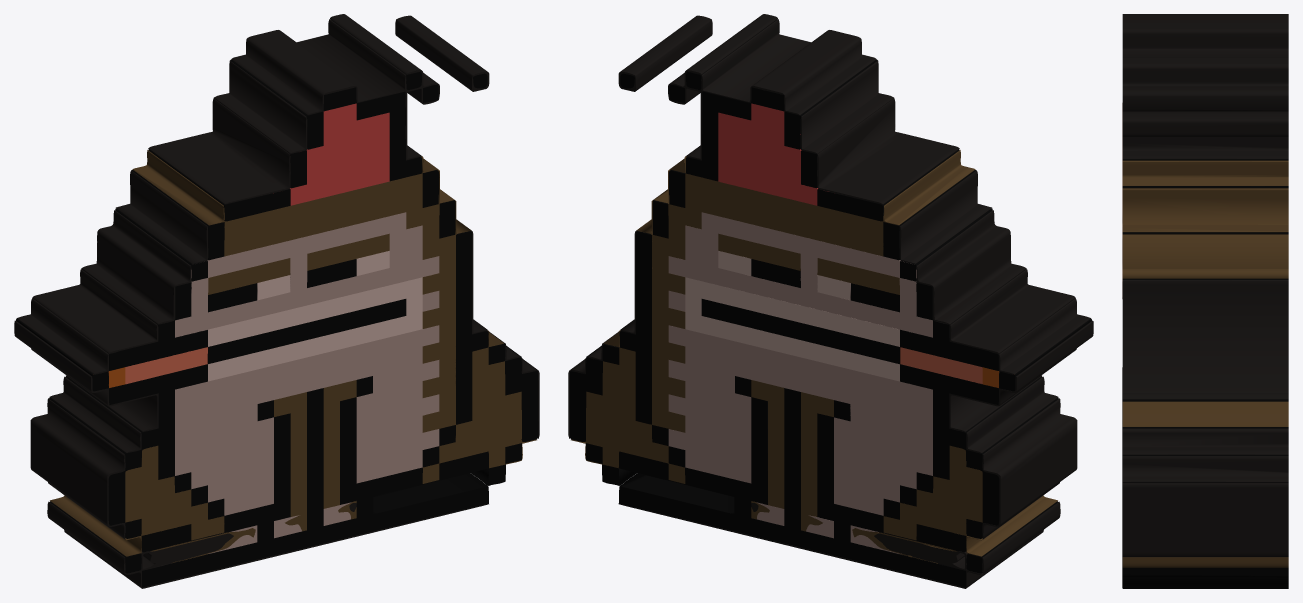
Rendered from Toadz_5104.glb.
3 renders of one model, left to right at view 1: azimuth 30°, elevation 25°; view 2: azimuth 150°, elevation 25°; view 3: azimuth 270°, elevation 25°, orthographic. The views are drawn at different scales.
Parts seen in each view (by area): view 1: Curve; view 2: Curve; view 3: Curve.
Part boxes in pixels (left/top/right/bottom): Curve: left=14, top=14, right=539, bottom=588; Curve: left=568, top=14, right=1093, bottom=588; Curve: left=1122, top=14, right=1288, bottom=588.
Size of the model in its own units: 3.38 by 3.25 by 1.
